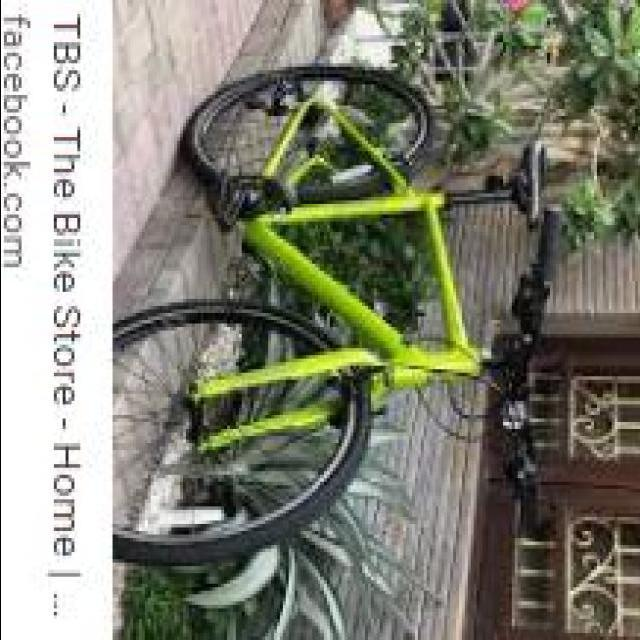bicycle: (115, 68, 497, 542)
